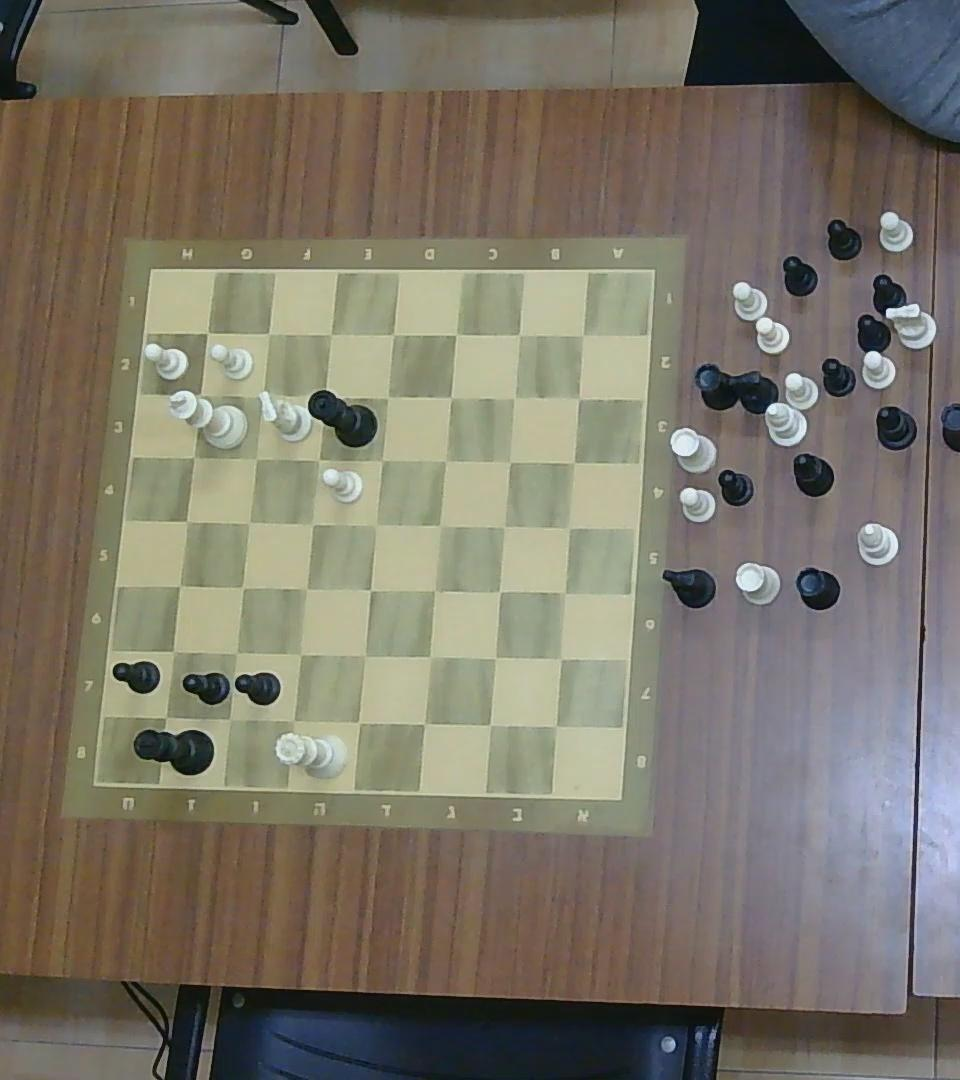xcorner: (477, 712, 503, 738), (543, 714, 569, 739), (412, 711, 437, 736), (247, 382, 272, 407), (347, 709, 371, 734), (281, 708, 305, 732), (418, 644, 442, 668), (154, 703, 178, 727), (482, 646, 506, 669), (353, 644, 376, 668), (288, 642, 311, 666), (549, 647, 571, 669), (319, 323, 341, 345), (439, 387, 461, 408), (371, 449, 392, 471), (225, 642, 246, 664), (218, 708, 240, 729), (188, 384, 210, 405), (376, 387, 396, 408), (429, 514, 449, 535), (423, 580, 444, 600), (183, 447, 203, 467), (366, 514, 386, 534), (488, 582, 508, 602), (559, 516, 579, 536), (314, 386, 334, 406), (296, 578, 315, 599), (302, 514, 321, 534), (435, 450, 454, 470), (361, 580, 380, 600), (446, 325, 465, 345), (555, 582, 574, 602), (259, 324, 278, 344), (170, 575, 189, 595), (177, 511, 196, 531), (164, 641, 183, 661), (384, 325, 403, 345), (309, 448, 327, 469), (247, 449, 266, 468), (240, 513, 259, 532), (495, 516, 513, 536), (233, 577, 251, 597), (198, 323, 217, 341), (500, 451, 518, 470), (564, 453, 583, 471), (511, 326, 529, 344), (573, 326, 591, 344), (505, 389, 523, 406), (572, 390, 588, 405)
